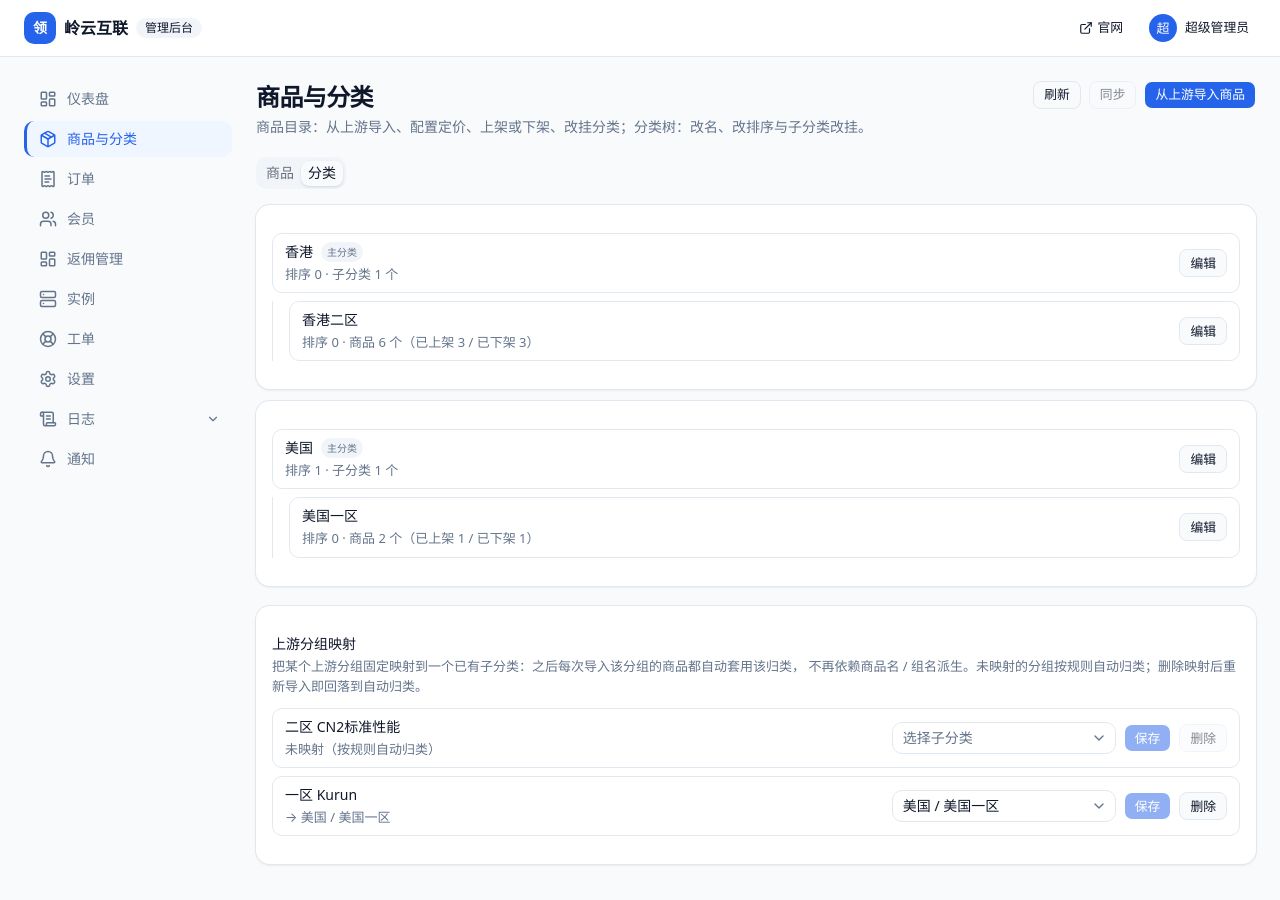
Test: 管理后台 · 商品与分类 · 分类页签 › 子分类改挂主分类：提交 parent_id 并把子分类挪到目标主分类下
Expected: the heading "商品与分类" is shown, top-left (256, 80), bottom-right (373, 113)
Expected: the text "香港二区" is shown, top-left (302, 310), bottom-right (358, 330)
Click the button "编辑" in the row of "排序 0 · 商品 6 个（已上架 3 / 已下架 3）".
click(1203, 331)  # box top-left (1179, 317), bottom-right (1227, 345)
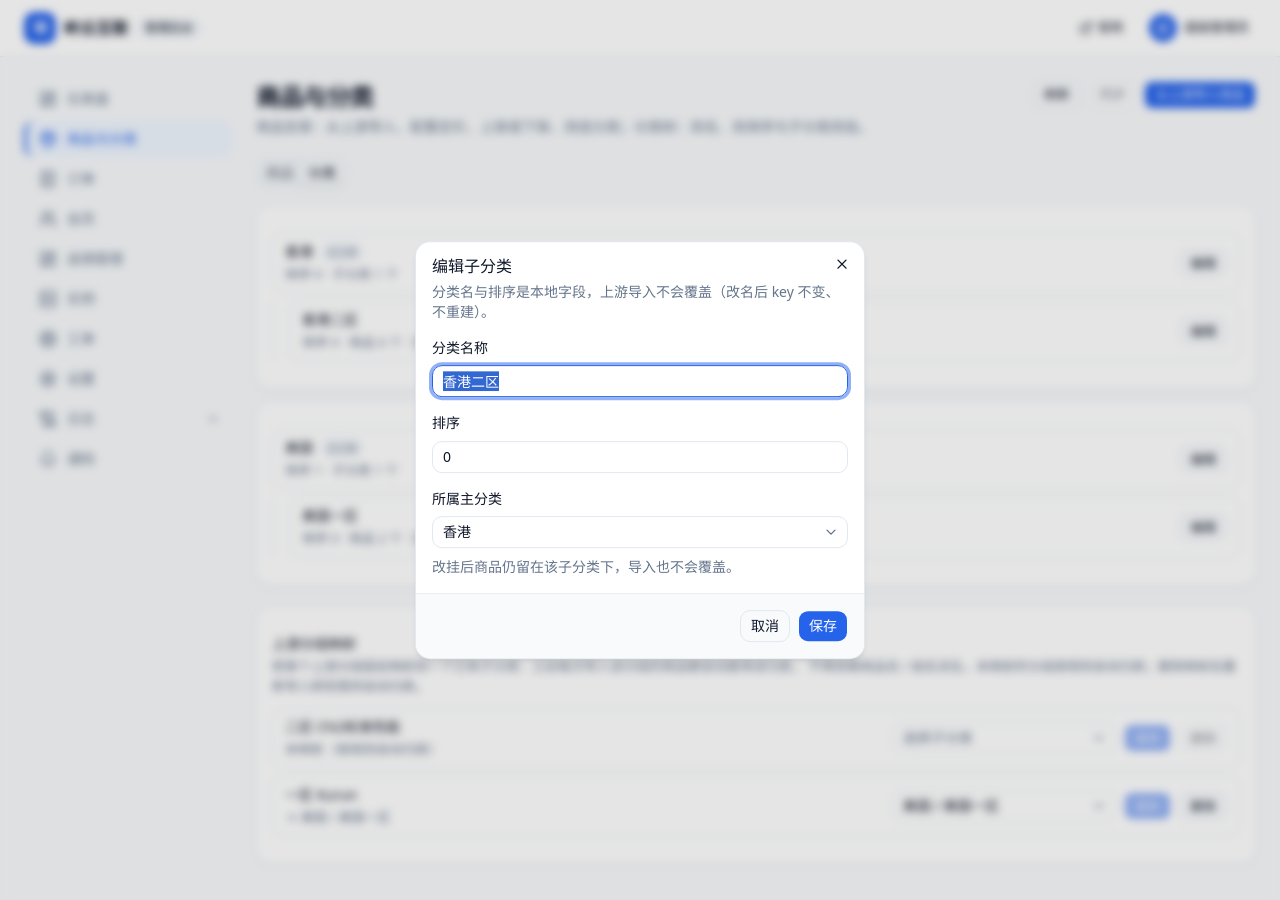
Click the dropdown named "所属主分类".
click(457, 531)  # box top-left (432, 516), bottom-right (848, 548)
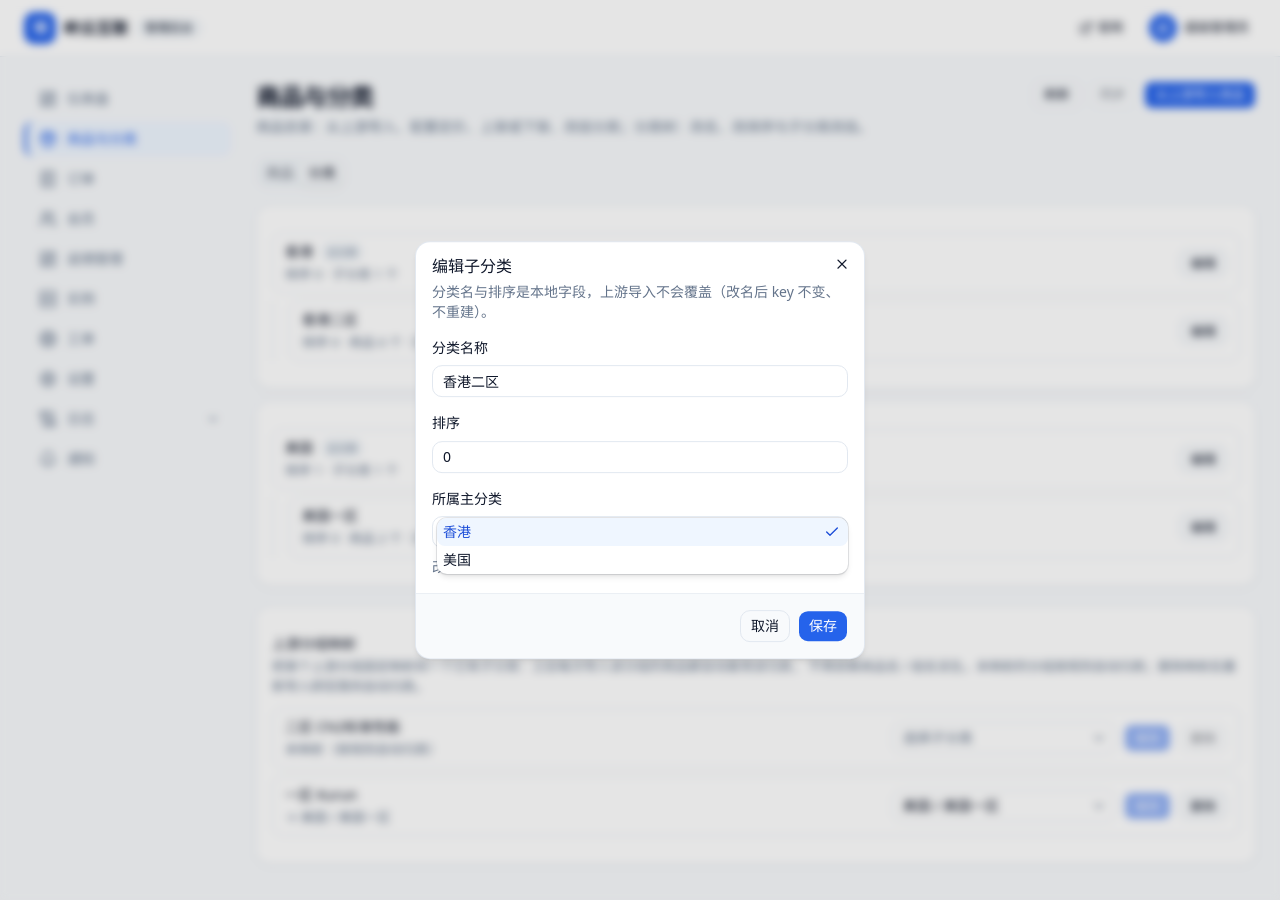
Click the option "美国".
click(457, 559)  # box top-left (443, 550), bottom-right (471, 569)
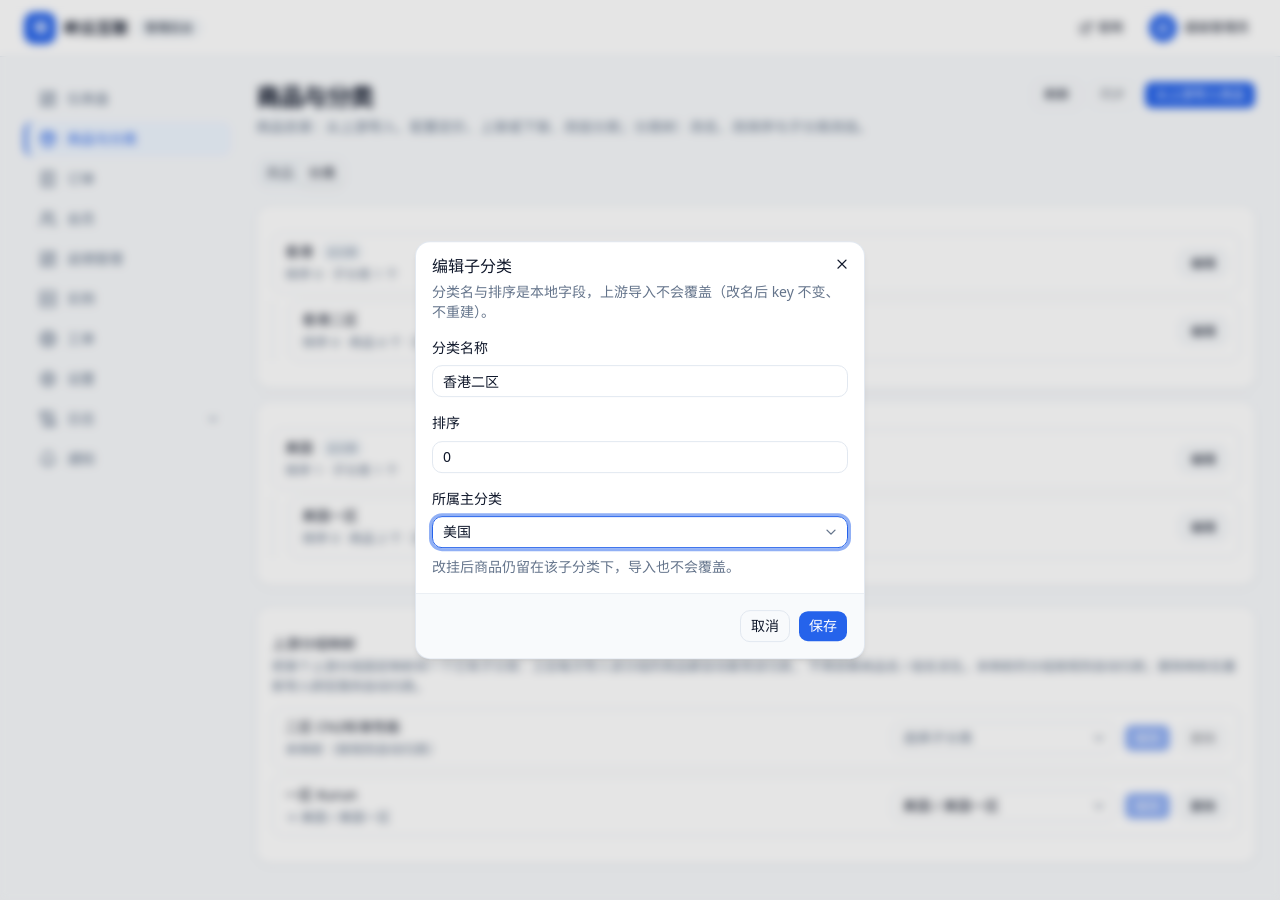
Click the button "保存".
click(823, 626)  # box top-left (798, 610), bottom-right (848, 642)
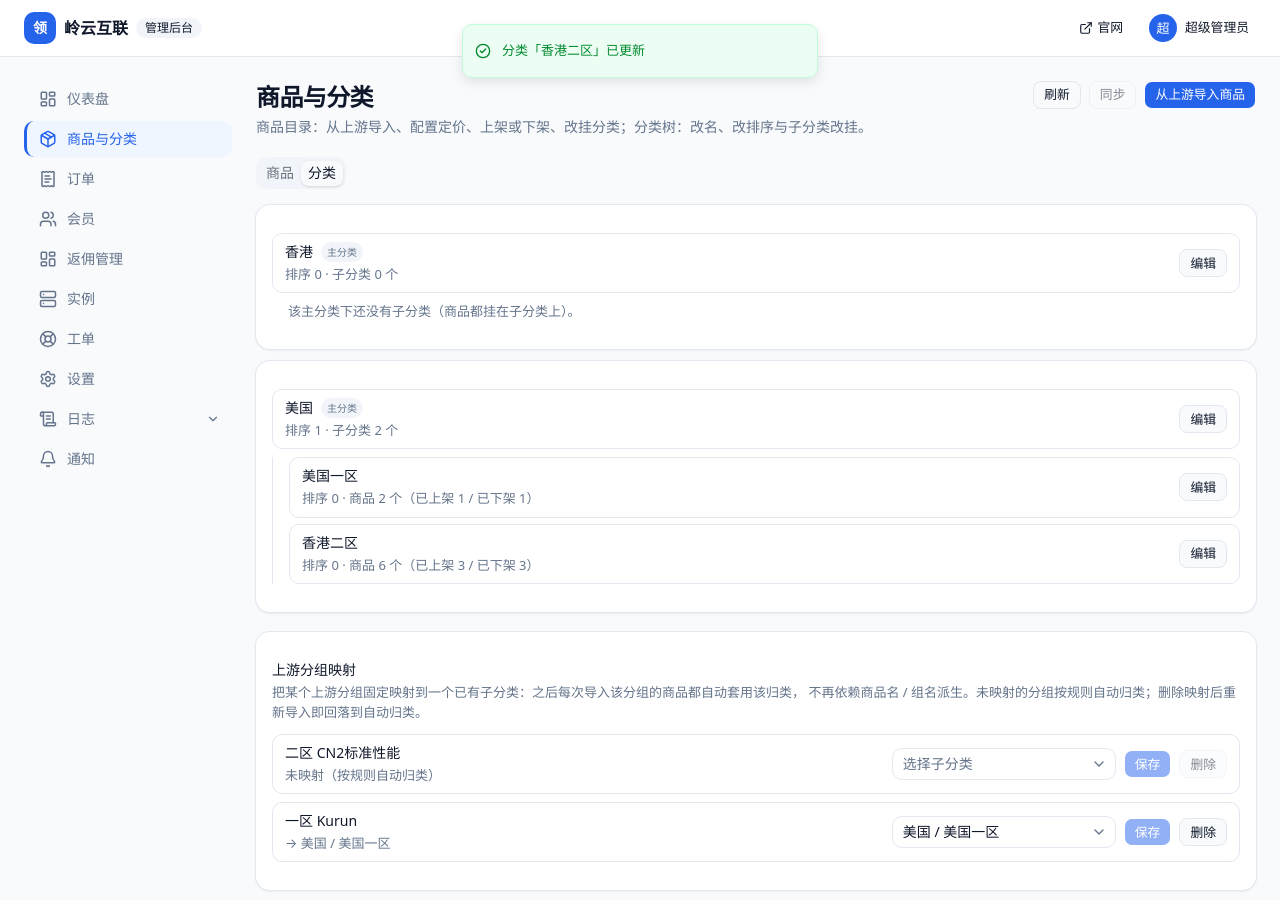
Expected: the text "排序 0 · 子分类 0 个" is shown, top-left (285, 264), bottom-right (398, 284)
Expected: the text "排序 1 · 子分类 2 个" is shown, top-left (285, 420), bottom-right (398, 440)
Expected: the text "香港二区" is shown, top-left (302, 533), bottom-right (358, 553)
